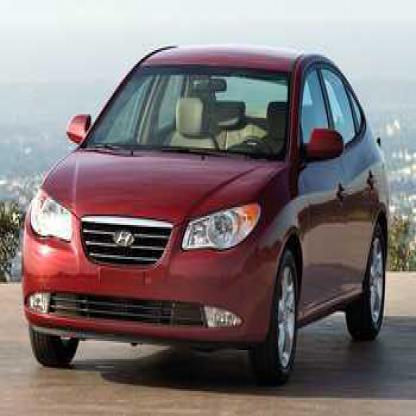Vehicle: (20, 50, 392, 389)
